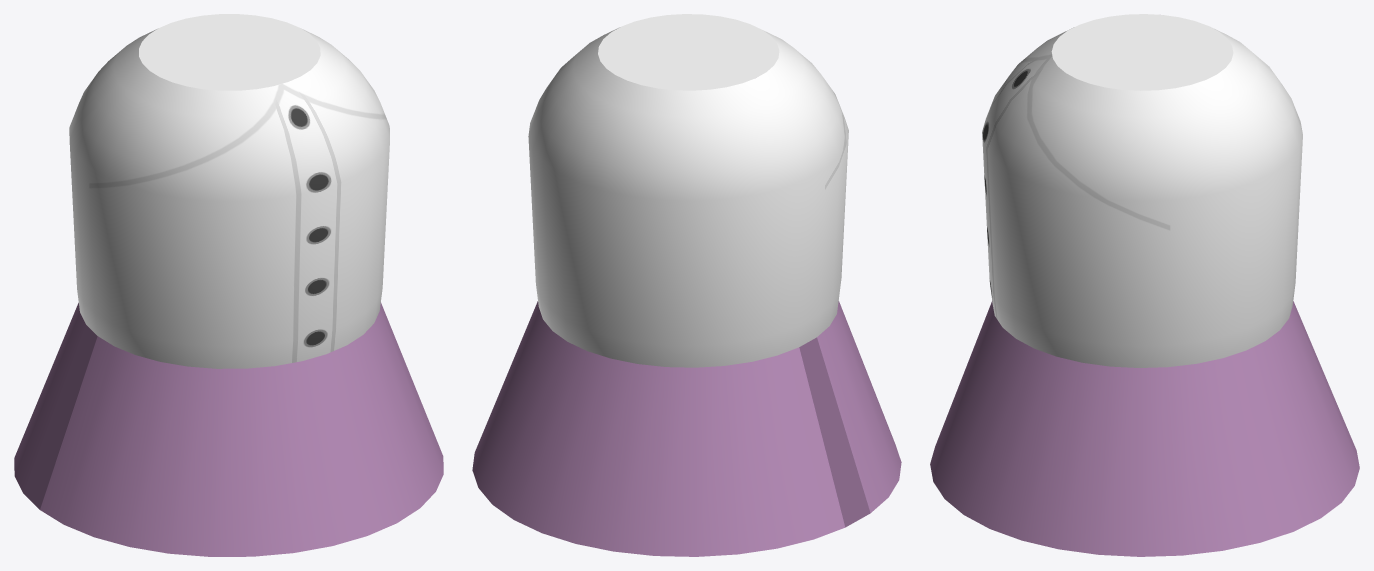
File: Body_ShirtDress.FBX
3 views of the same model, side by side, from view 1: azimuth 30°, elevation 25°; view 2: azimuth 150°, elevation 25°; view 3: azimuth 270°, elevation 25° (orthographic).
Parts seen in each view (by area): view 1: Cylinder001; view 2: Cylinder001; view 3: Cylinder001.
Boxes of the visible parts, left/top/right/bottom form: Cylinder001: left=14, top=14, right=443, bottom=556; Cylinder001: left=472, top=14, right=901, bottom=556; Cylinder001: left=930, top=14, right=1359, bottom=556.
Size of the model in its own units: 76.31 by 81.01 by 76.31.
